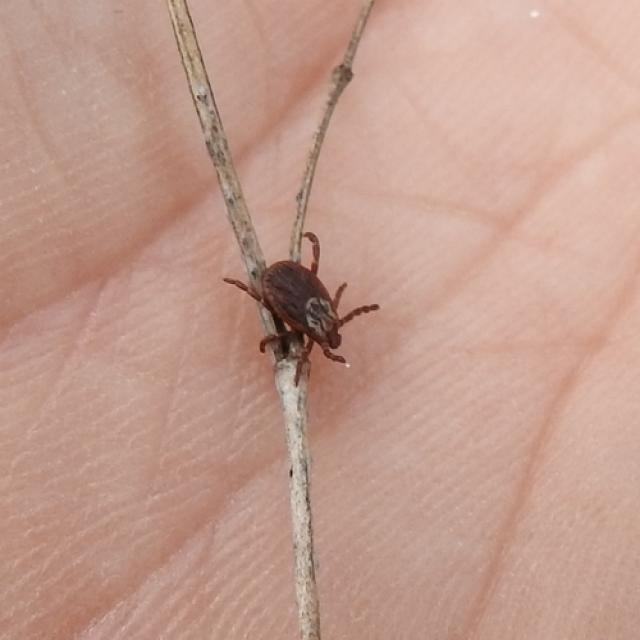Dermacentor Reticulatus-F: (223, 231, 380, 378)
